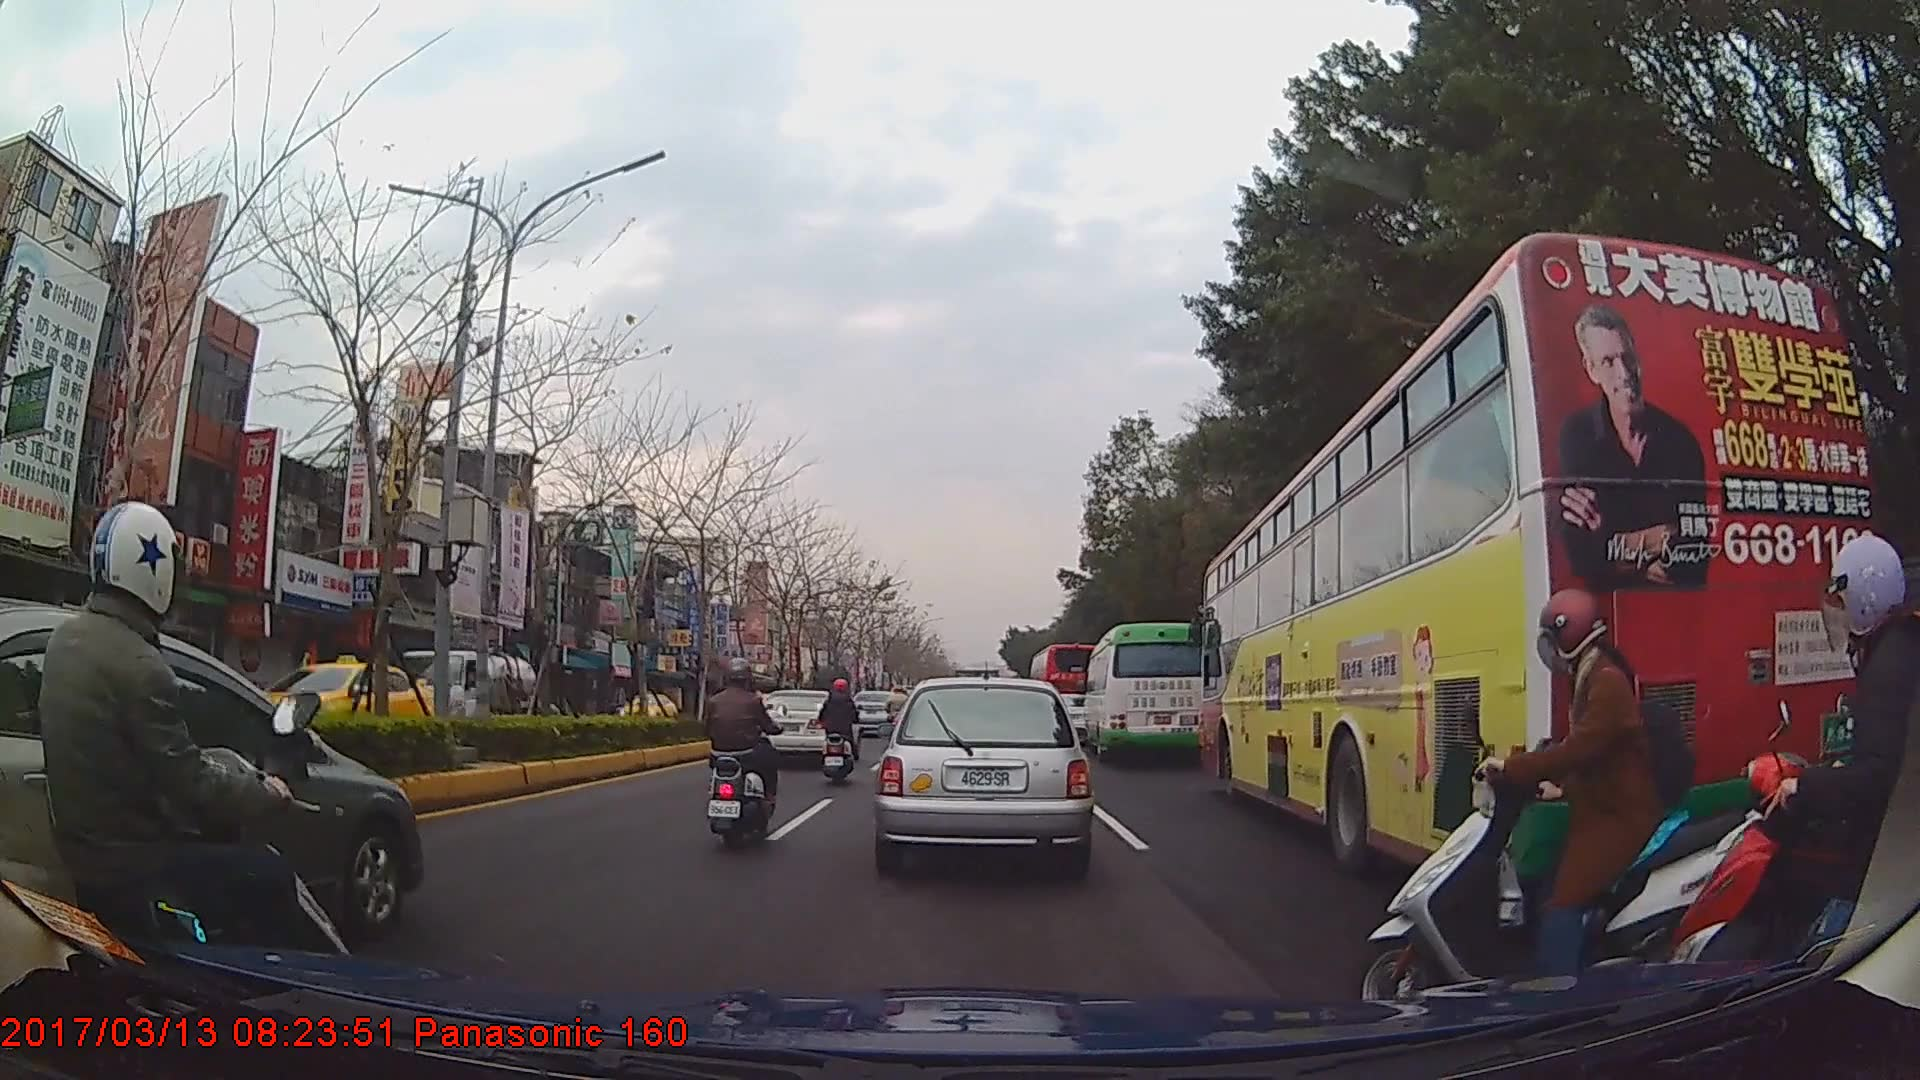rider: (1342, 581, 1774, 1033), (1, 498, 361, 1033), (1672, 528, 1920, 1057), (701, 657, 786, 854), (818, 678, 862, 787), (884, 684, 910, 740)
vehicle: (1201, 229, 1882, 887), (0, 594, 422, 965), (877, 669, 1089, 874), (229, 652, 446, 762), (374, 648, 554, 754), (1082, 620, 1211, 764), (753, 688, 857, 770), (1025, 639, 1102, 734), (612, 689, 681, 731)
